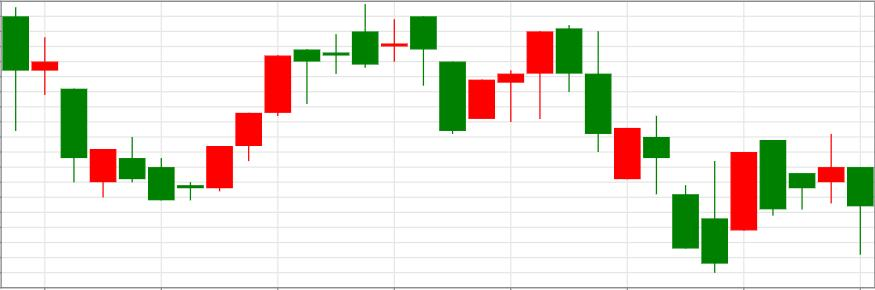hanging_man_fall: (147, 3, 437, 200)
inverse_hammer_rise: (527, 25, 729, 274)
